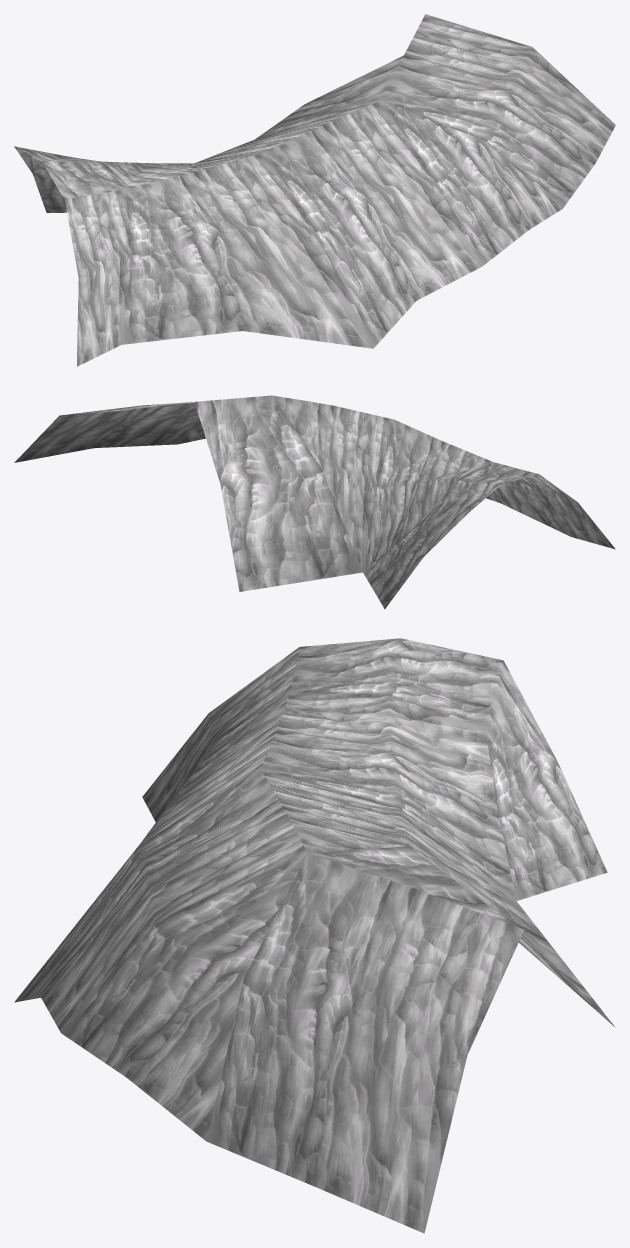
Rendered from SWORDLIGHT20_PS-AREA03_04.fbx.
The picture shows the model from 3 angles, top to bottom: view 1: azimuth 30°, elevation 25°; view 2: azimuth 150°, elevation 25°; view 3: azimuth 270°, elevation 25°; orthographic projection. The views are drawn at different scales.
Parts seen in each view (by area): view 1: SWORDLIGHT20_PS-AREA03_04; view 2: SWORDLIGHT20_PS-AREA03_04; view 3: SWORDLIGHT20_PS-AREA03_04.
Boxes of the visible parts, bbox=[...] form: SWORDLIGHT20_PS-AREA03_04: bbox=[14, 14, 615, 366]; SWORDLIGHT20_PS-AREA03_04: bbox=[14, 395, 615, 609]; SWORDLIGHT20_PS-AREA03_04: bbox=[14, 638, 615, 1233].
Size of the model in its own units: 302636 by 71511 by 165659.
1 material, 1 textured.
